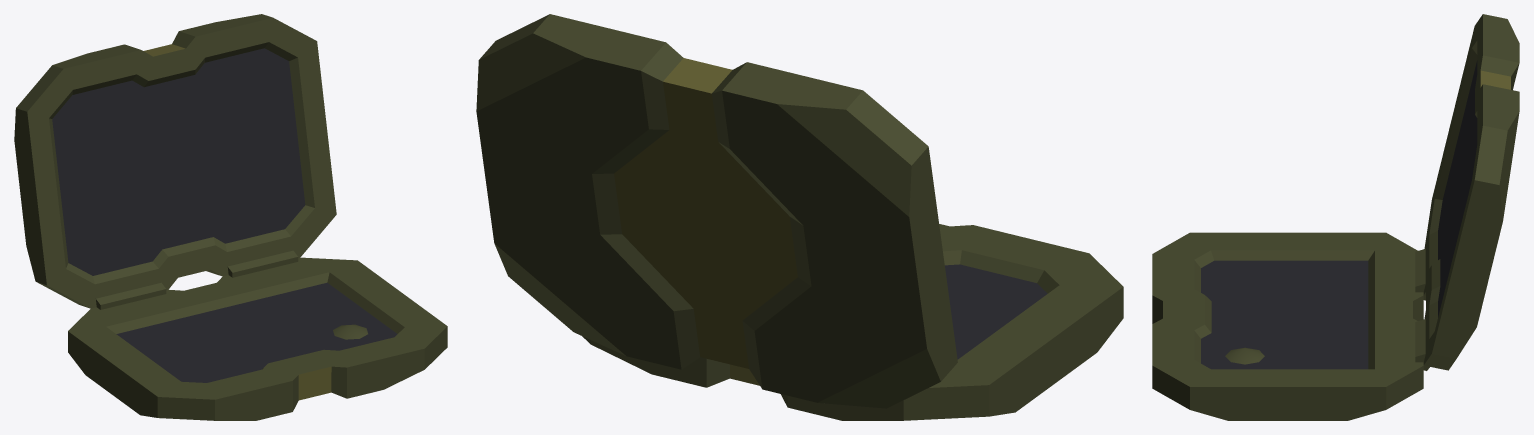
The model's file is LPWarPack_Plane_002.fbx.
3 views of the same model, side by side, from view 1: azimuth 30°, elevation 25°; view 2: azimuth 150°, elevation 25°; view 3: azimuth 270°, elevation 25° (orthographic). The views are drawn at different scales.
Visible parts, largest first — view 1: Plane.002; view 2: Plane.002; view 3: Plane.002.
Part boxes in pixels (<box>): Plane.002: <box>14,14,447,420</box>; Plane.002: <box>476,14,1123,420</box>; Plane.002: <box>1152,14,1519,420</box>.
Size of the model in its own units: 53.38 by 44.21 by 53.68.
